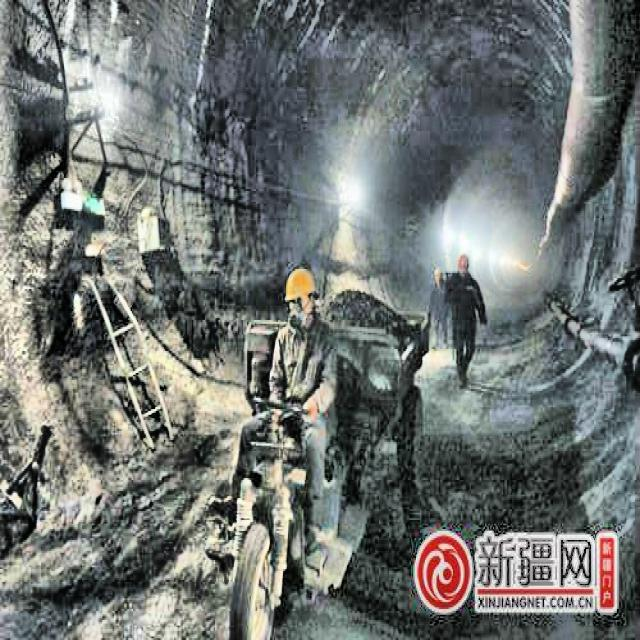helmet: (284, 262, 319, 322), (456, 249, 472, 278)
